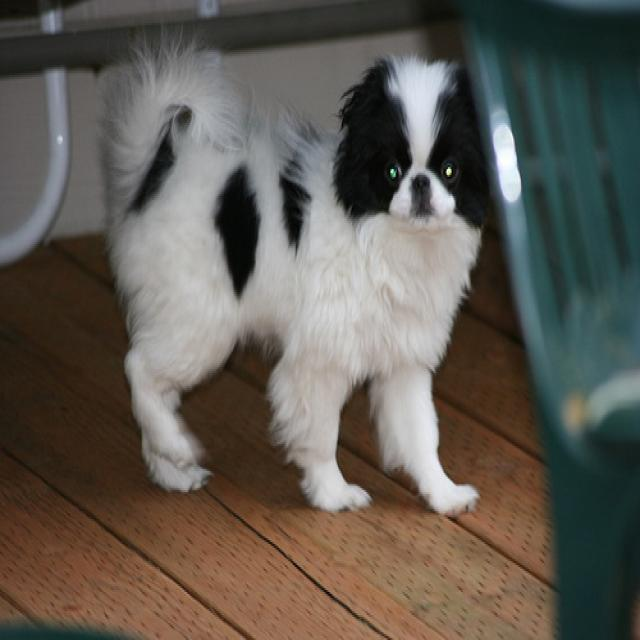dog-japanese_chin: (87, 17, 507, 532)
